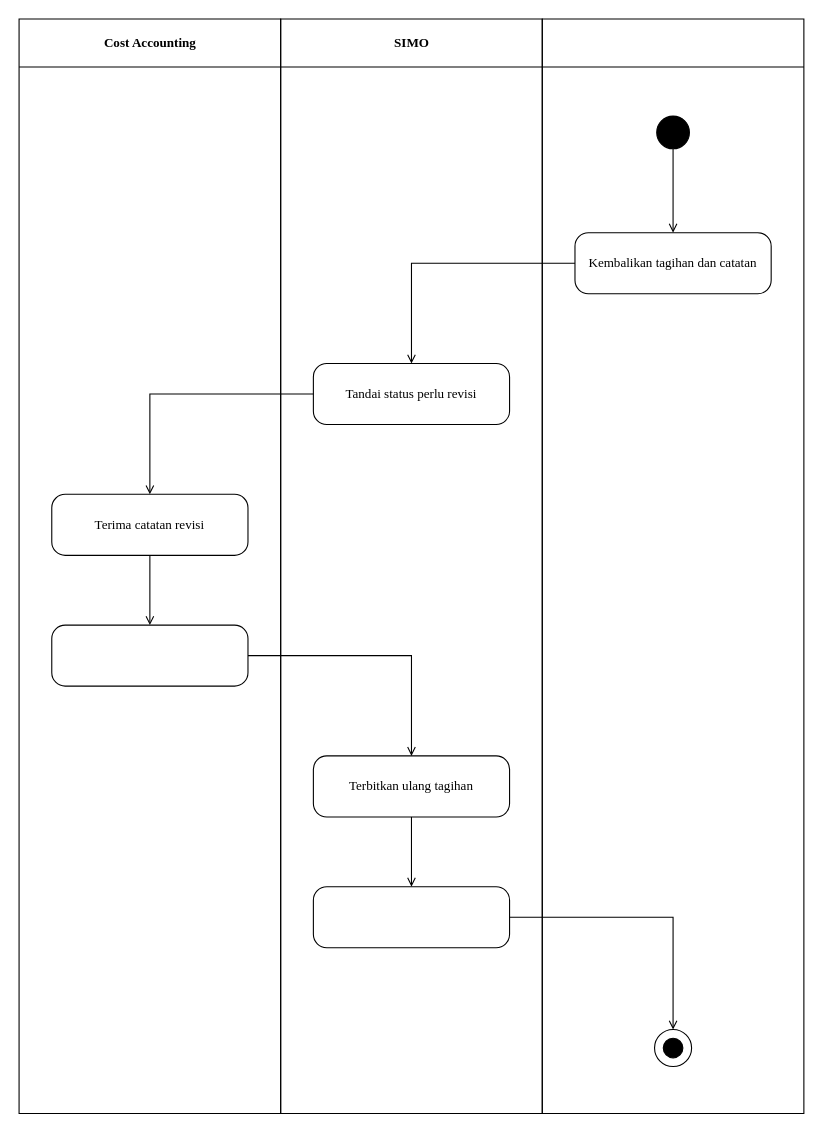
Some shapes in this 823 by 1133 pixel diagram are drawn without their labels. The box of each missing label's shape, as (x1, y1, x2, y2) in pixels:
Kirim tagihan revisi ke DJKA: (312, 886, 510, 948)
Otoritas DJKA: (541, 18, 804, 1113)
Perbaiki rincian tagihan: (51, 624, 248, 686)
